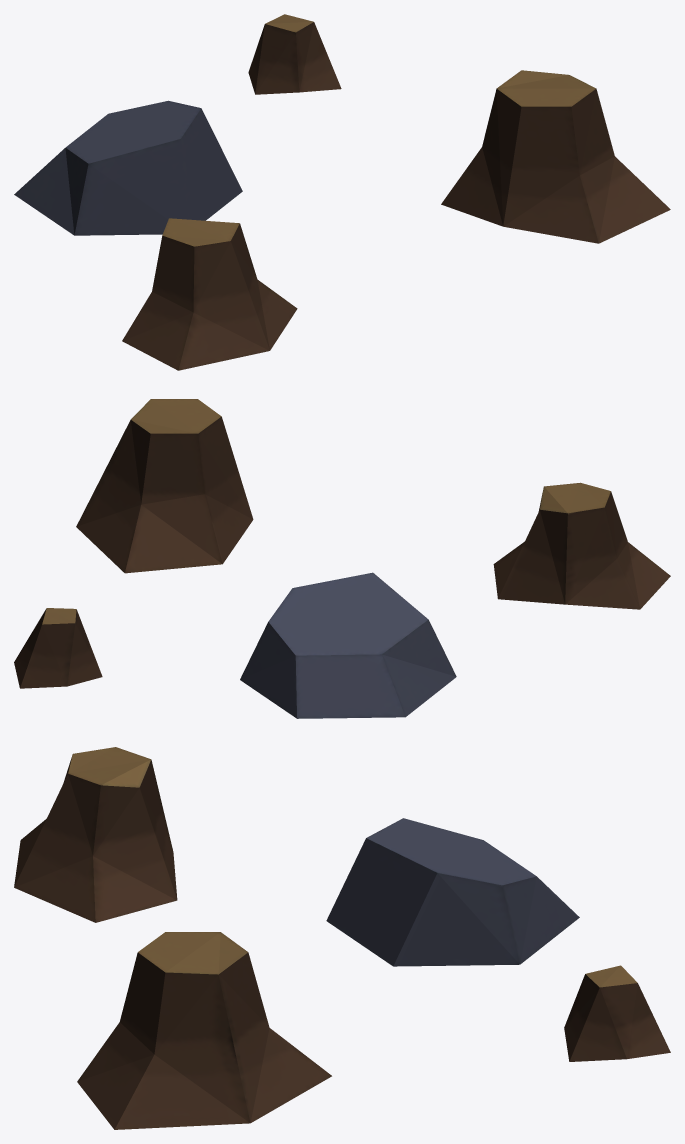
File: tile_wood_5_ruin_lod1.fbx
3 renders of one model, top to bottom at view 1: azimuth 30°, elevation 25°; view 2: azimuth 150°, elevation 25°; view 3: azimuth 270°, elevation 25°, orthographic. The views are drawn at different scales.
Visible parts, largest first — view 1: wood_5_ruin_LOD1; view 2: wood_5_ruin_LOD1; view 3: wood_5_ruin_LOD1.
Part boxes in pixels (x1,y1,x2,y2): wood_5_ruin_LOD1: [14, 14, 670, 370]; wood_5_ruin_LOD1: [14, 399, 670, 718]; wood_5_ruin_LOD1: [14, 747, 670, 1129].
Size of the model in its own units: 0.0236 by 0.00483 by 0.0222.
